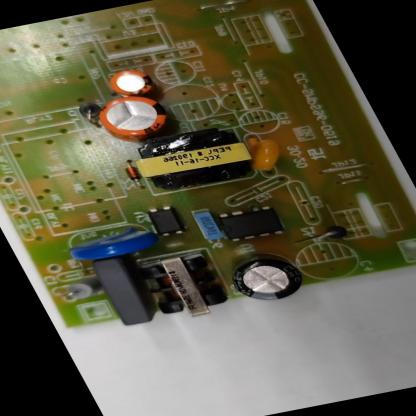Cap1: (90, 92, 176, 144)
Cap2: (104, 67, 156, 98)
Cap3: (219, 246, 310, 305)
MOSFET: (214, 205, 286, 244)
Mov: (62, 225, 160, 265)
Resistor: (56, 275, 106, 302)
Transformer: (123, 124, 259, 195), (134, 252, 234, 322)
